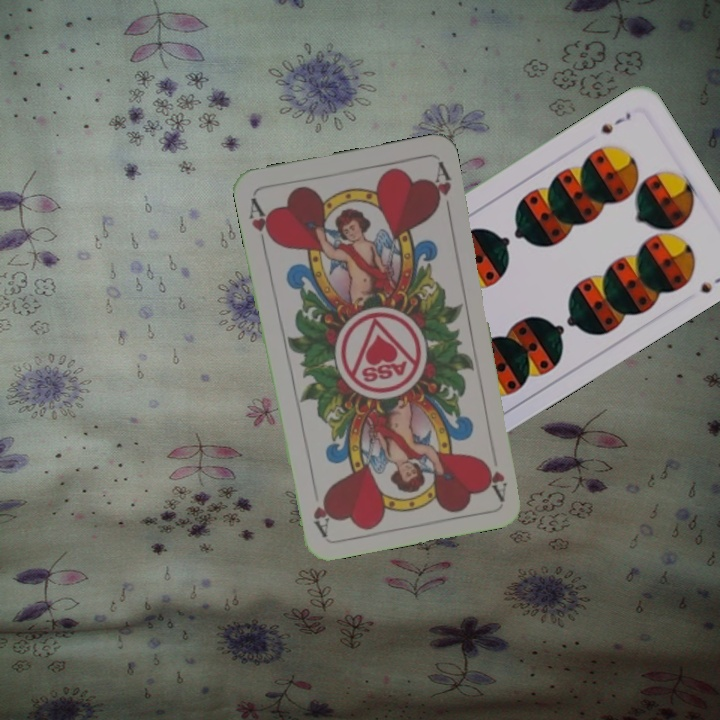HA: (244, 193, 277, 252), (480, 456, 510, 502)
S7: (596, 108, 634, 137)
